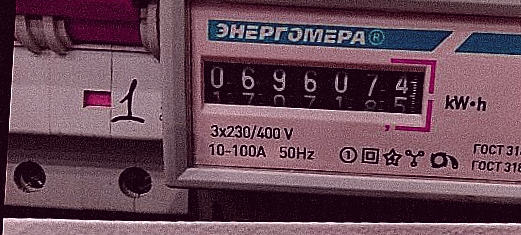0: (205, 62, 225, 88), (331, 67, 349, 94)
4: (393, 69, 410, 94)
5: (391, 93, 408, 112)
6: (238, 62, 258, 90), (300, 67, 318, 92)
7: (360, 69, 380, 96)
9: (268, 65, 288, 91)
screen: (185, 39, 441, 135)
